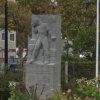Statue: (28, 13, 54, 69)
